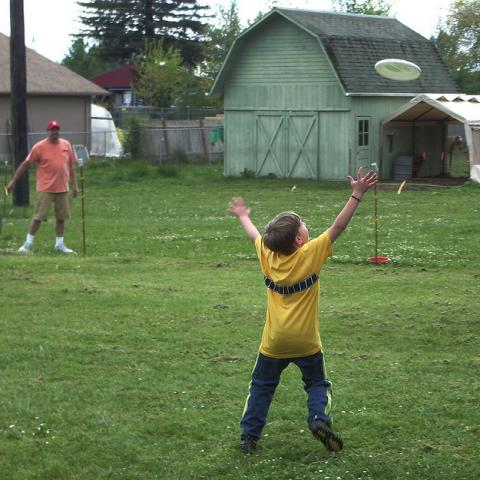car: (88, 104, 128, 158), (72, 144, 90, 168)
